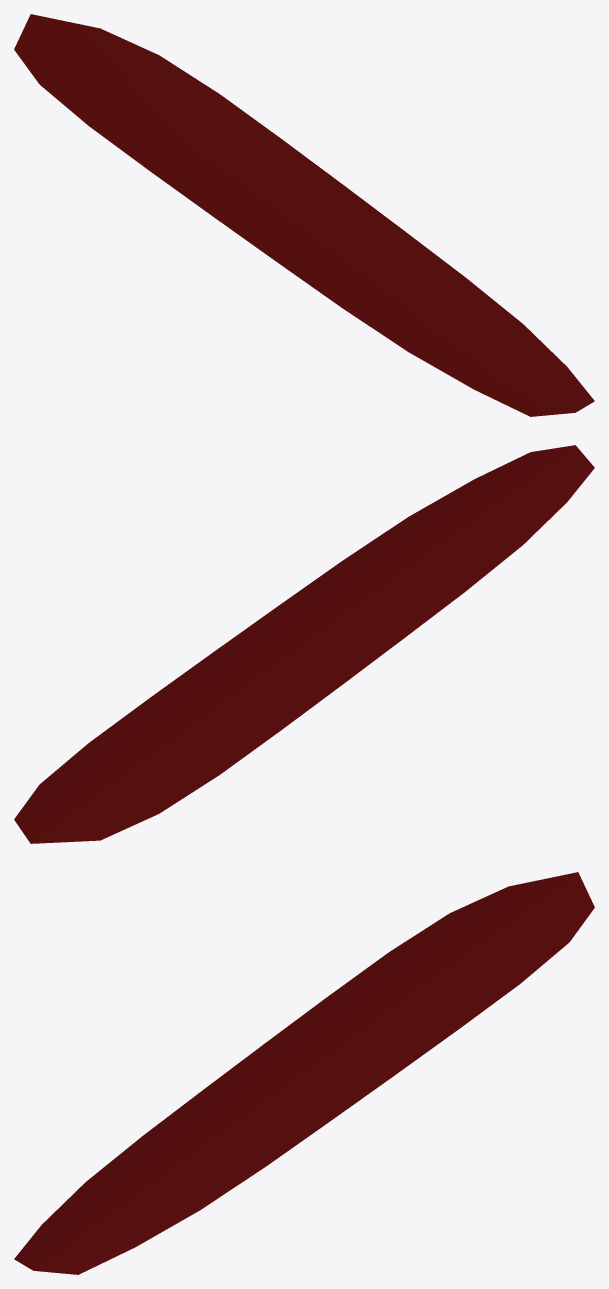
The model's file is parrot_feather_tail_primary_005.obj.
3 renders of one model, top to bottom at view 1: azimuth 30°, elevation 25°; view 2: azimuth 150°, elevation 25°; view 3: azimuth 330°, elevation 25°, orthographic.
Parts seen in each view (by area): view 1: feather_tail_primary_005; view 2: feather_tail_primary_005; view 3: feather_tail_primary_005.
Boxes of the visible parts, left/top/right/bottom form: feather_tail_primary_005: left=14, top=14, right=594, bottom=416; feather_tail_primary_005: left=14, top=445, right=594, bottom=843; feather_tail_primary_005: left=14, top=872, right=594, bottom=1274.
Size of the model in its own units: 0.0145 by 0.000587 by 0.104.
